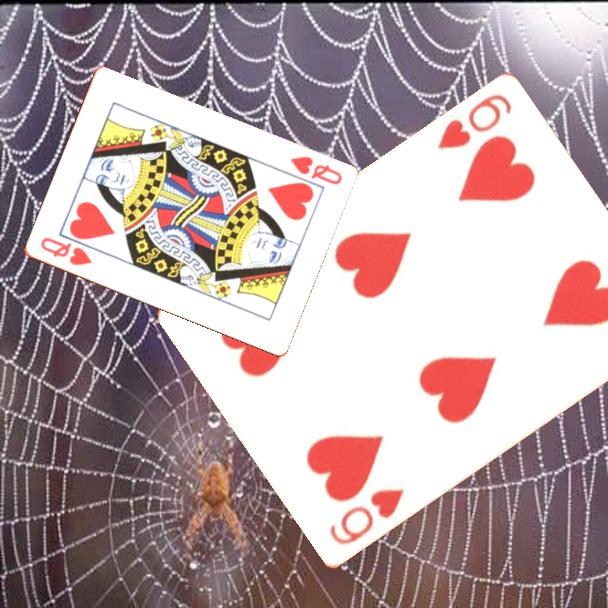h06: (325, 485, 407, 549), (434, 91, 515, 153)
h12: (36, 234, 95, 269), (286, 153, 345, 188)
